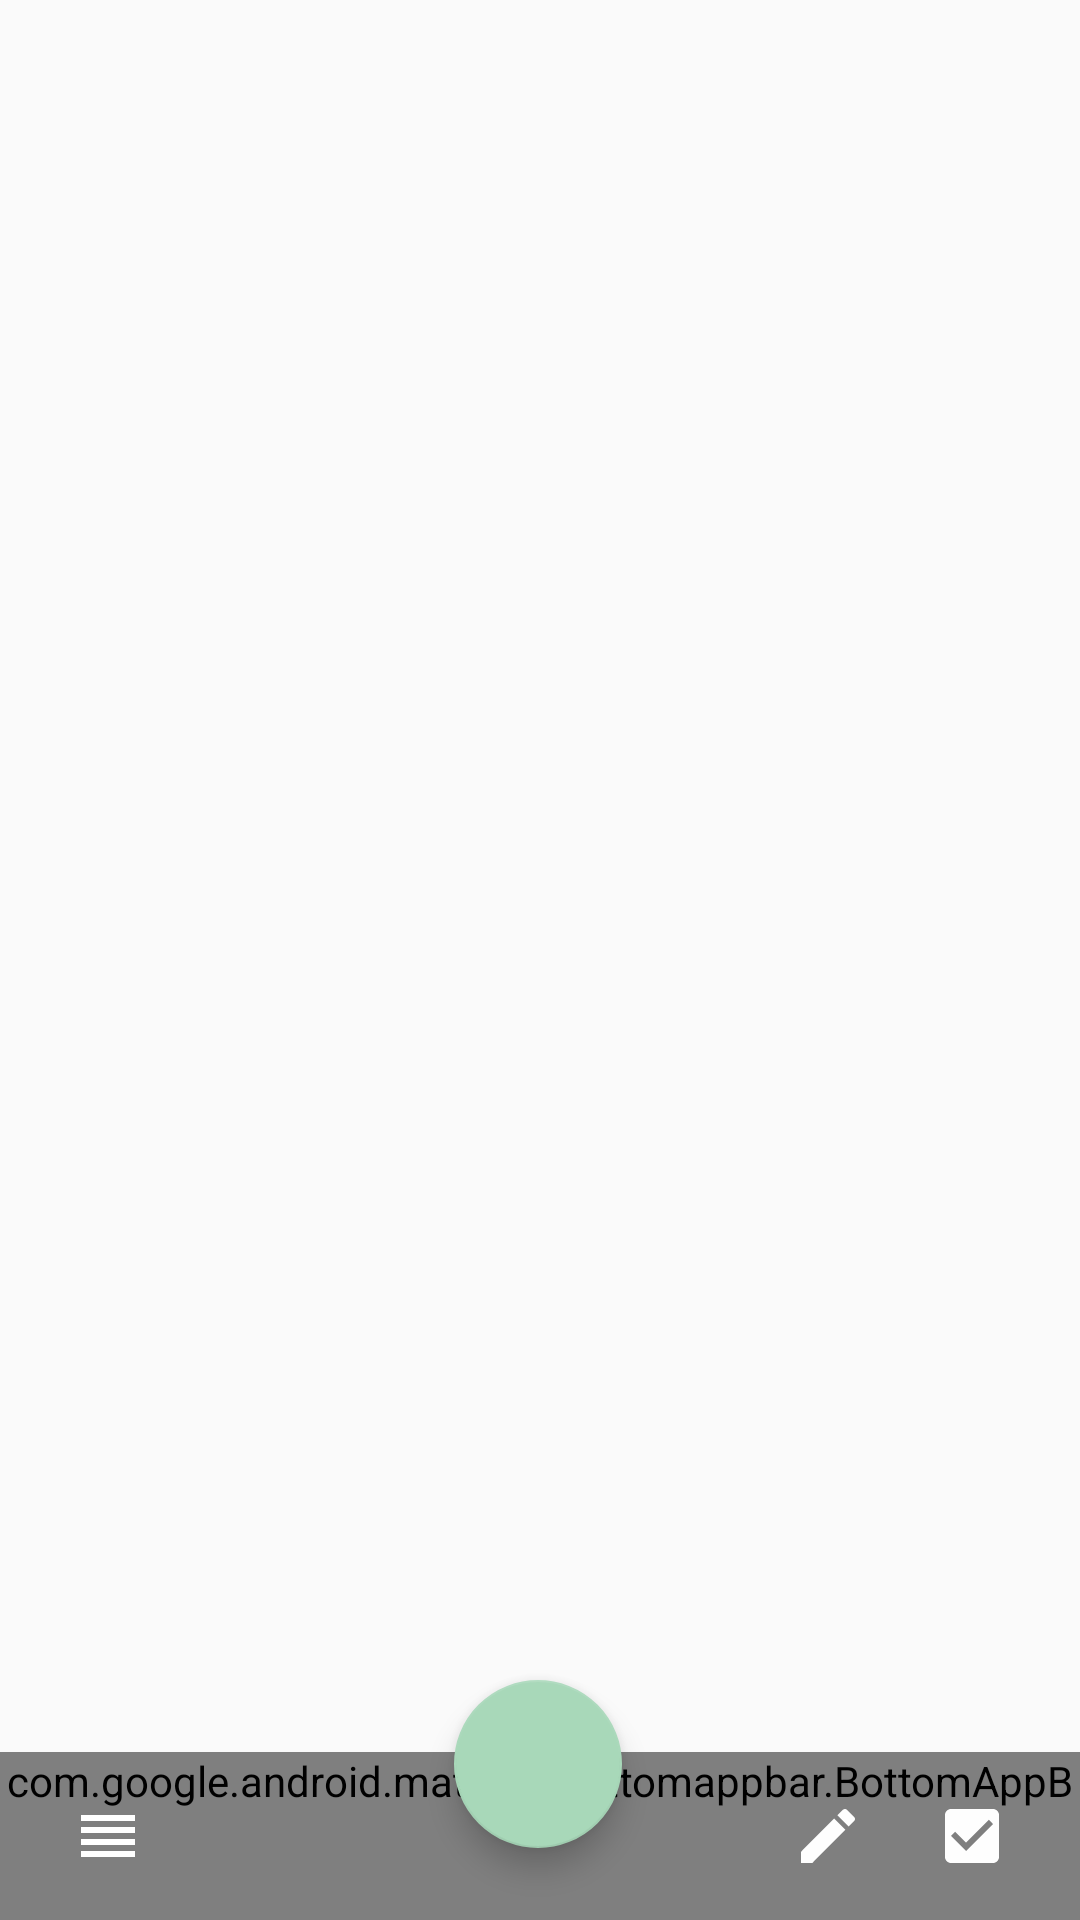

Locate icon controls on the screen. Image size 1080 × 1920, boxes as (x1, y1, x2, y2).
check box: (945, 1809, 999, 1863)
create: (801, 1809, 855, 1863)
reorder: (81, 1815, 135, 1857)
